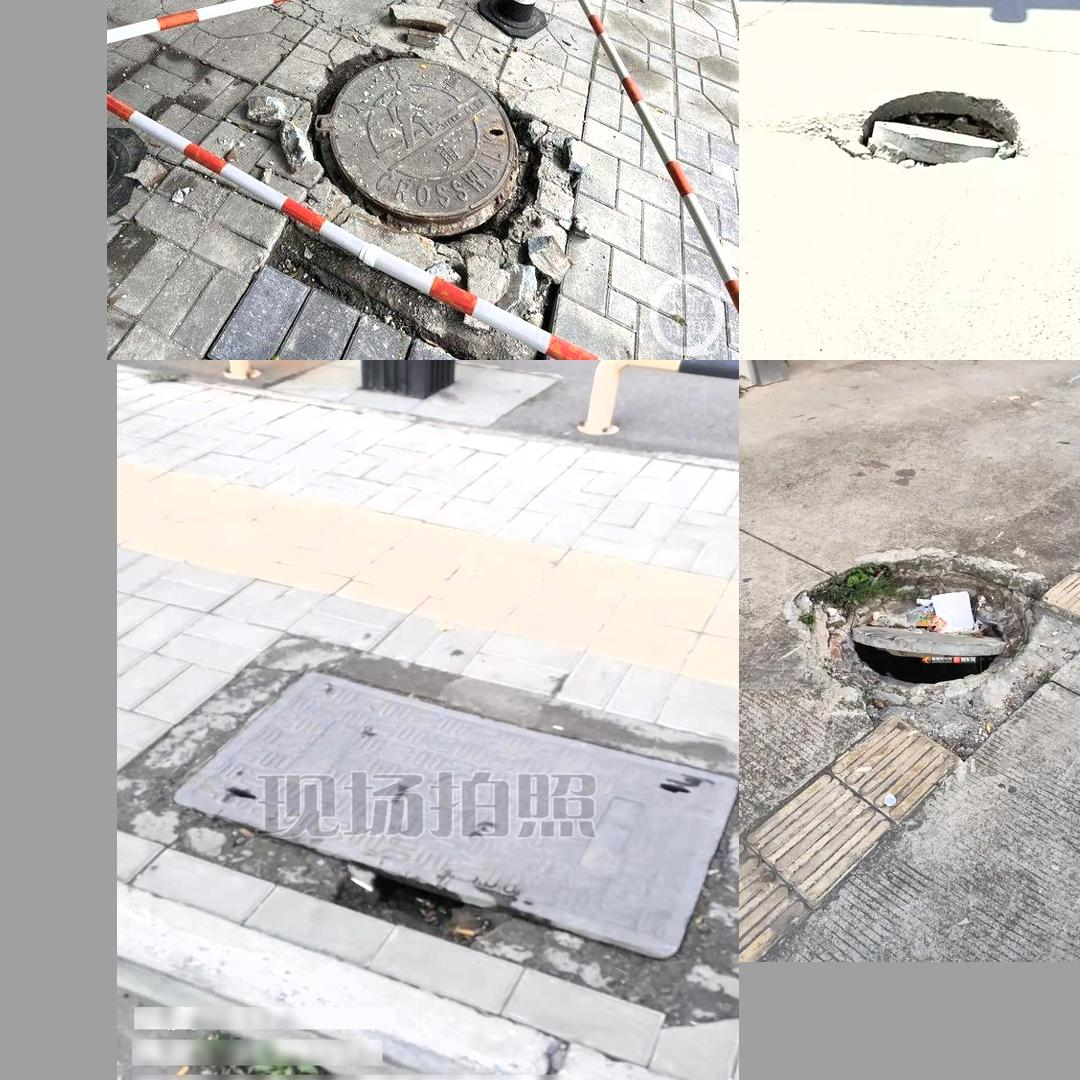circle: (125, 633, 739, 989), (263, 25, 571, 342), (772, 542, 1080, 746), (803, 79, 1039, 191)
